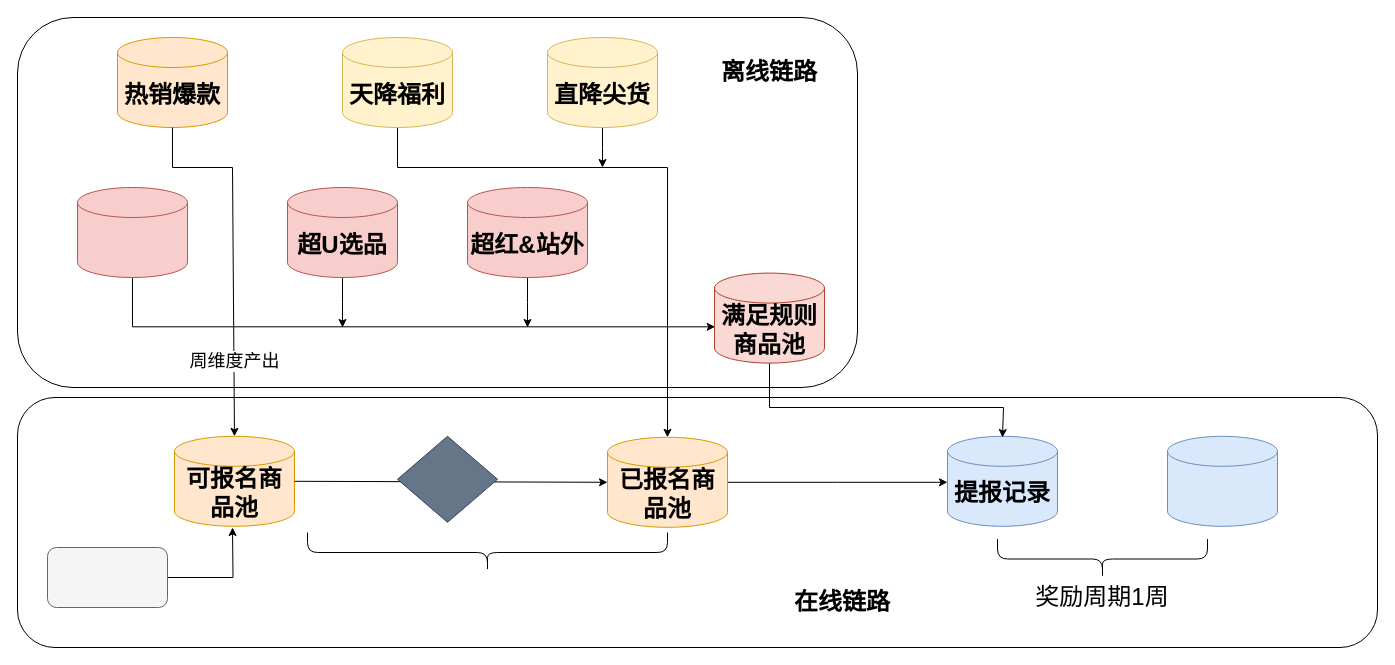
Image size: 1395x665. Some labels were removed from this diagram. The shapes that lost their labels are listed below. From the top down, each one's centre as x and y in pixels, then its label:
At (x=132, y=232): "猫U选品".
At (x=447, y=478): "佣金校验".
At (x=1222, y=480): "效果数据".
At (x=487, y=552): "提报周期1周".
At (x=107, y=577): "小二导入".
